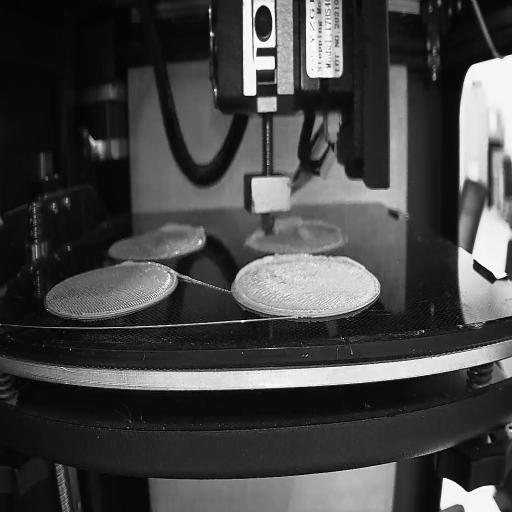over_extrusion: (235, 253, 279, 311), (158, 220, 208, 240), (333, 254, 365, 272), (276, 216, 311, 232), (115, 258, 137, 269), (251, 228, 264, 241)
